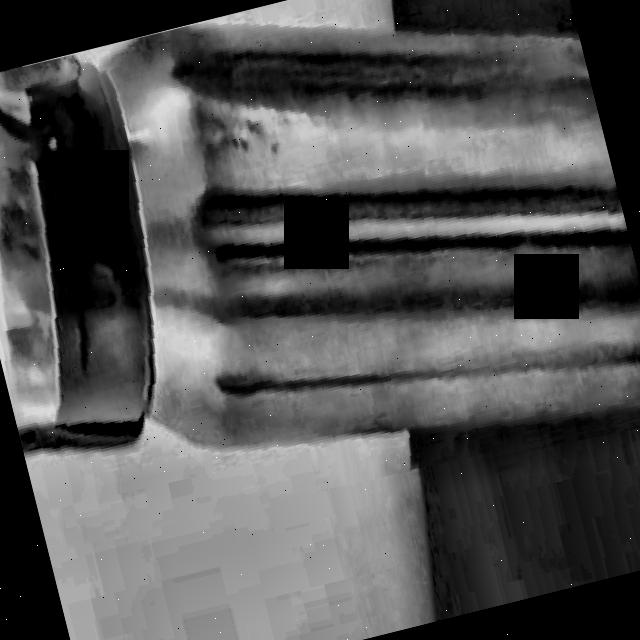bottle: (0, 21, 640, 453)
